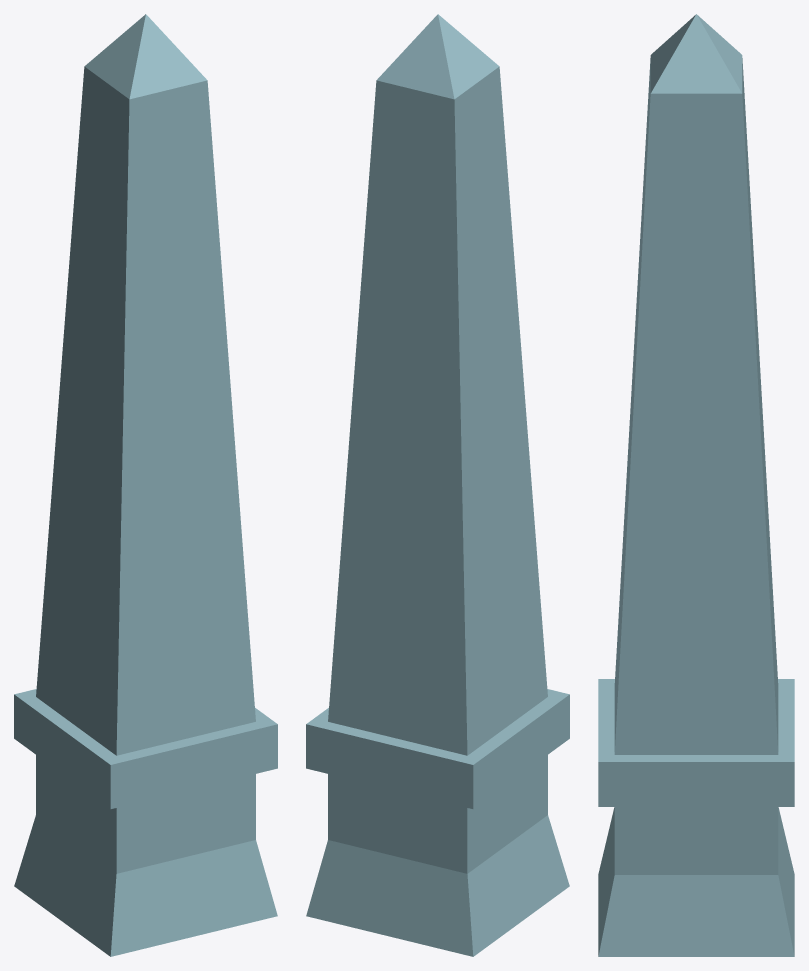
The model's file is pillarObelisk.fbx.
The picture shows the model from 3 angles, left to right: view 1: azimuth 30°, elevation 25°; view 2: azimuth 150°, elevation 25°; view 3: azimuth 270°, elevation 25°; orthographic projection.
Visible parts, largest first — view 1: pillarObelisk; view 2: pillarObelisk; view 3: pillarObelisk.
Part boxes in pixels (x1=…): pillarObelisk: x1=14, y1=14, x2=277, y2=956; pillarObelisk: x1=306, y1=14, x2=569, y2=956; pillarObelisk: x1=598, y1=14, x2=794, y2=956.
Bounding box in the file's own units: 2.06 × 10.46 × 2.06.
